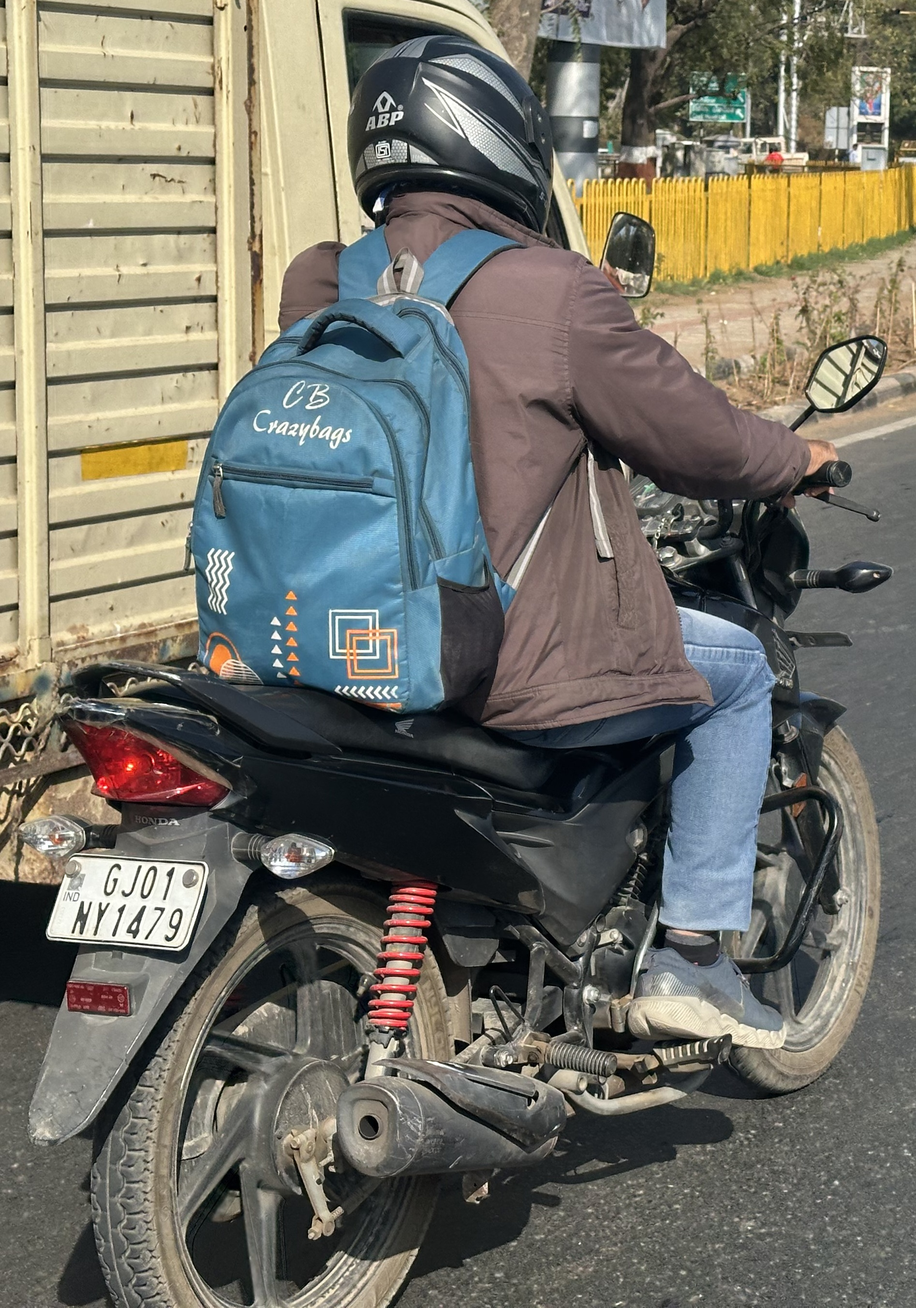BikeWithRider: (11, 20, 910, 1308)
Helmet: (330, 21, 577, 253)
